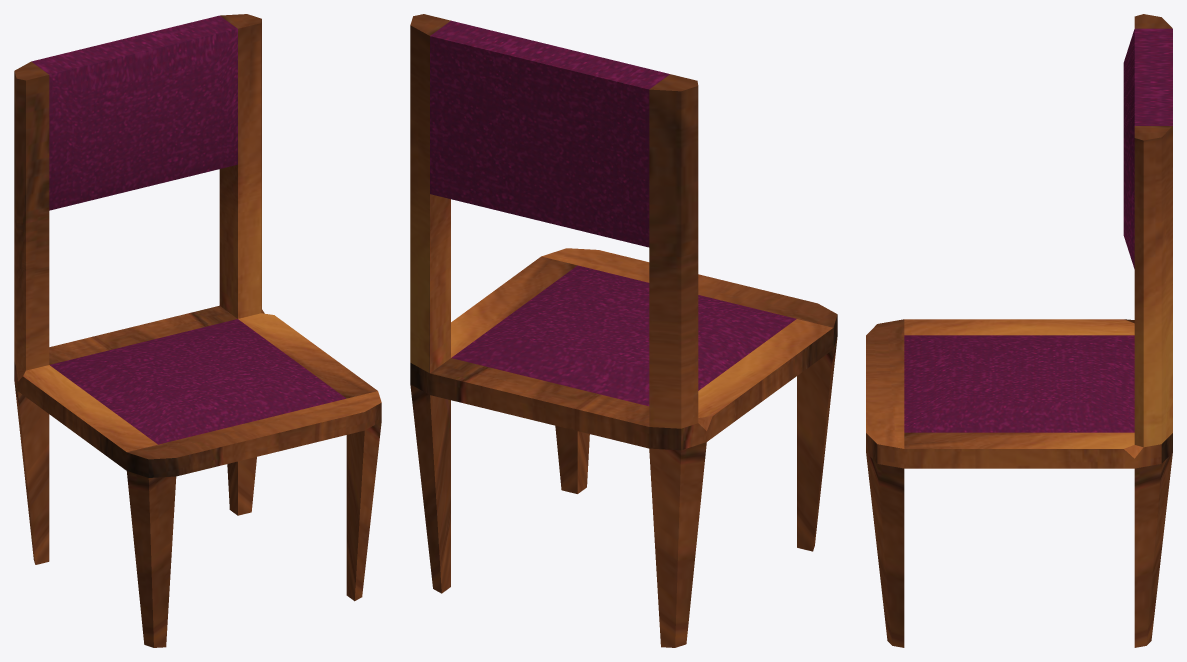
File: PurpleChair3.fbx
The picture shows the model from 3 angles, left to right: view 1: azimuth 30°, elevation 25°; view 2: azimuth 150°, elevation 25°; view 3: azimuth 270°, elevation 25°; orthographic projection. The views are drawn at different scales.
Visible parts, largest first — view 1: purpleChair; view 2: purpleChair; view 3: purpleChair.
Boxes of the visible parts, <box> form: purpleChair: <box>14,14,381,647</box>; purpleChair: <box>410,14,837,647</box>; purpleChair: <box>866,14,1172,647</box>.
Bounding box in the file's own units: 63.98 × 118 × 63.98.
Materials: 1 (1 with a texture image).
